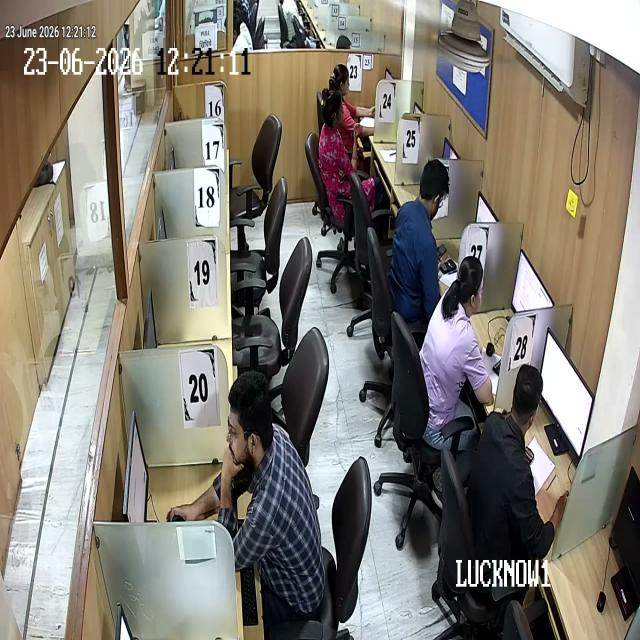phone: (431, 237, 451, 266), (434, 235, 449, 268)
